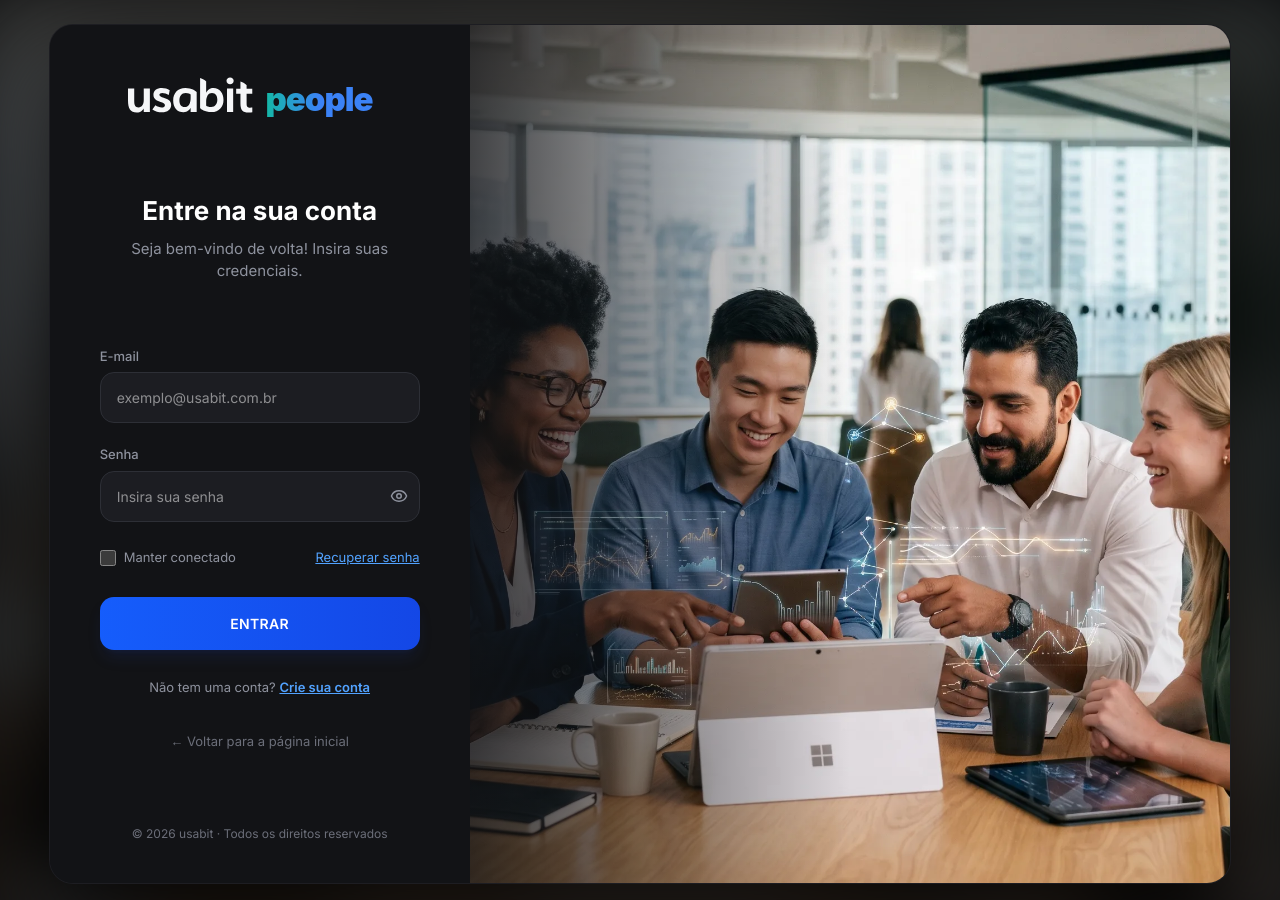
Test: Login › mostra erro se Recuperar senha sem email
The width and height of the screenshot is (1280, 900).
Click the button "Recuperar senha". click: (368, 558)
box: top-left (315, 548), bottom-right (420, 567)
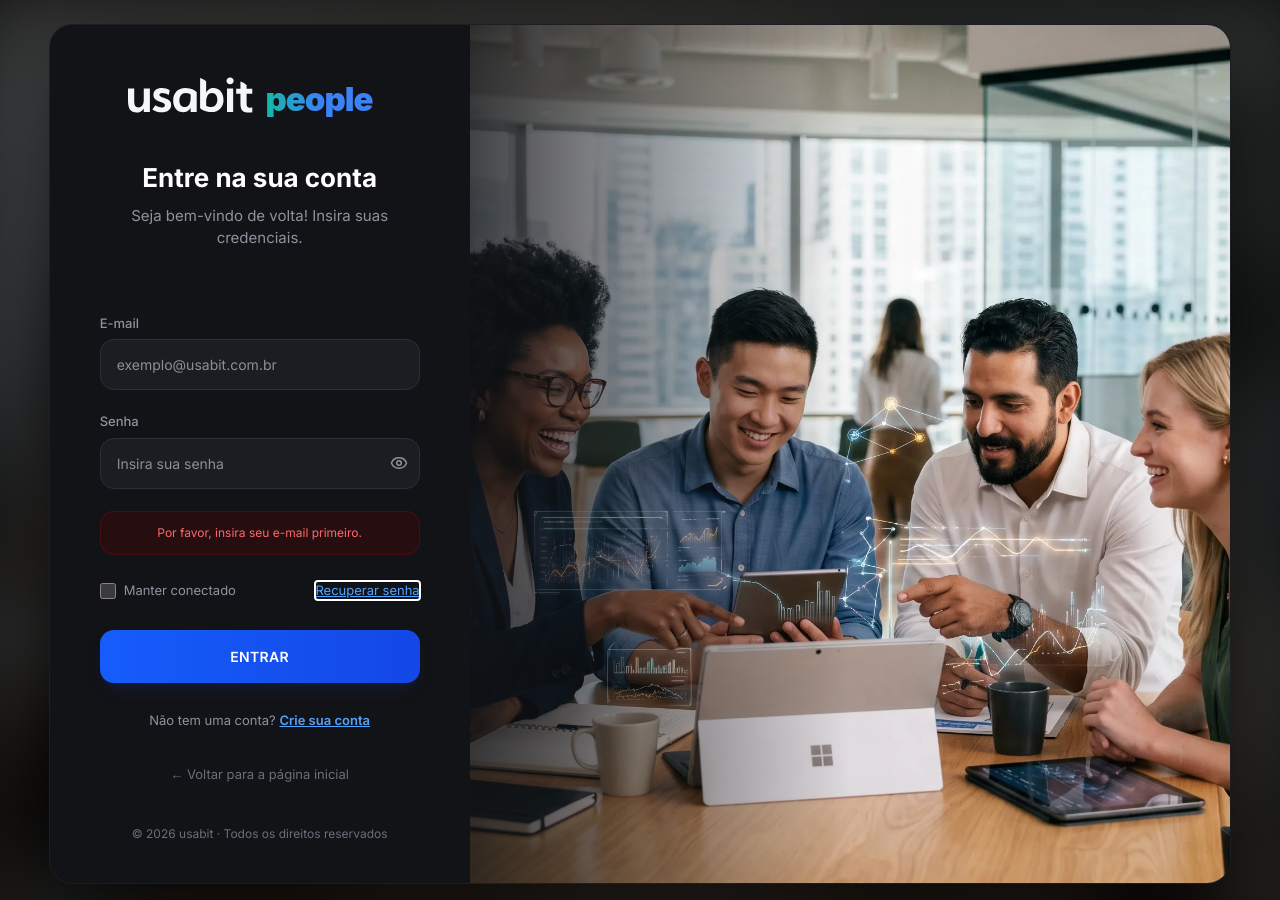
Now the text "Por favor, insira seu e-mail primeiro." is shown, box top-left (100, 511), bottom-right (420, 555)
